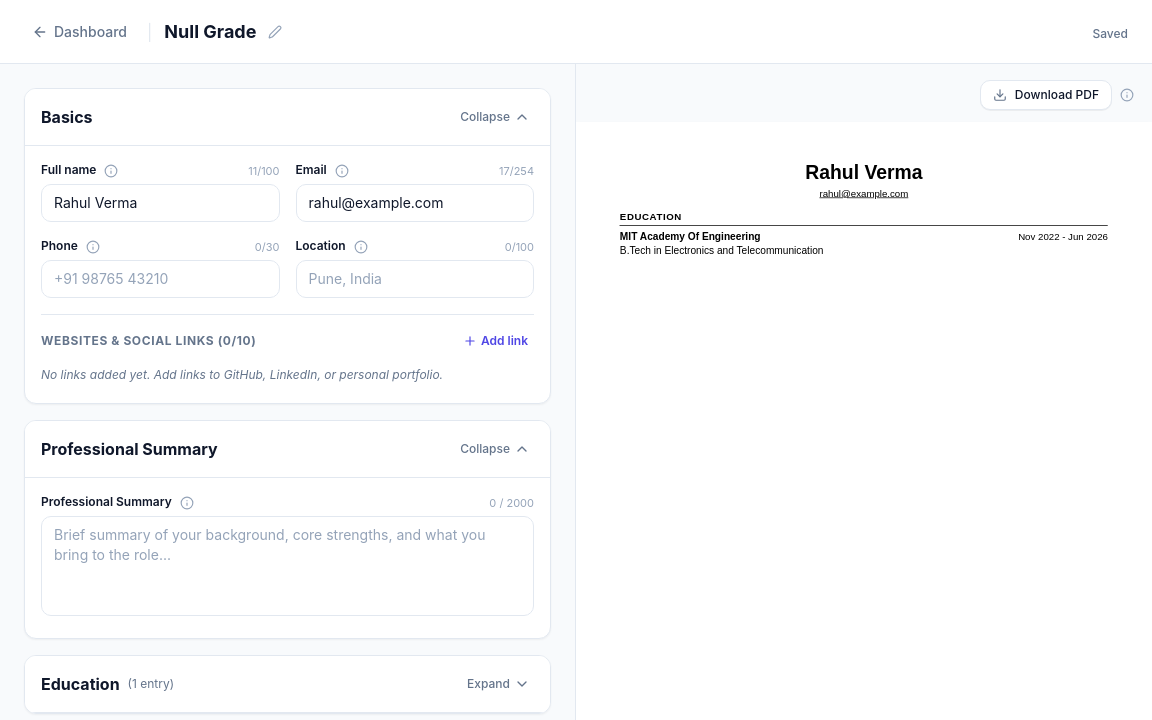
Scenario: Grade Type Switch & Hint (Part 2) › switches grade type when gradeValue is null
The image size is (1152, 720).
Later steps or results of the test are not shown.
Expected: the heading "Null Grade" is shown, left=164, top=18, right=256, bottom=46
Click the button "Expand" at (499, 684), box left=463, top=672, right=534, bottom=696
(page scrolled)
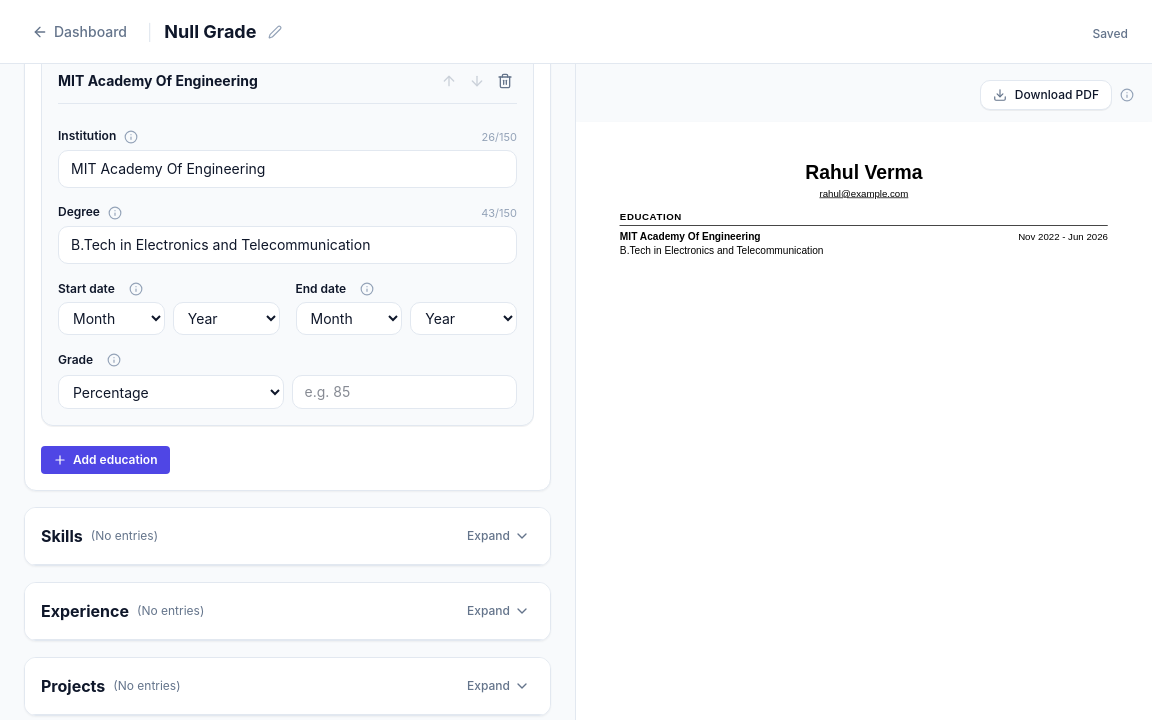
Expected: the dropdown named "grade type" shows "Percentage", left=58, top=375, right=284, bottom=409
